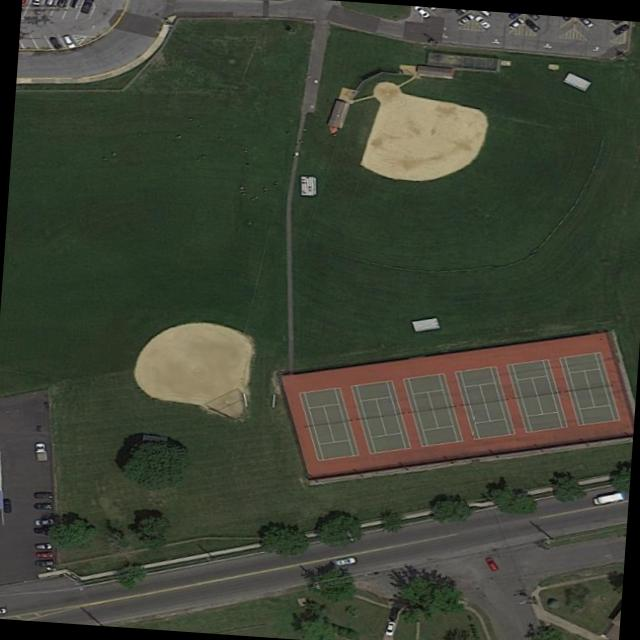small-vehicle: (591, 491, 624, 506), (611, 22, 632, 37), (32, 443, 48, 462), (60, 33, 77, 50), (483, 556, 501, 572), (474, 15, 493, 30), (456, 13, 476, 27), (79, 0, 94, 16), (47, 36, 64, 50), (525, 18, 541, 32), (508, 18, 525, 31), (335, 556, 356, 566), (32, 527, 55, 536), (384, 621, 396, 637), (388, 607, 400, 622), (32, 518, 53, 526), (33, 491, 53, 499), (33, 542, 52, 550), (33, 502, 52, 509), (68, 0, 81, 10), (3, 499, 11, 513), (35, 551, 53, 557), (56, 0, 68, 8), (34, 561, 53, 566), (44, 0, 55, 7), (31, 0, 42, 6), (0, 607, 7, 616)
